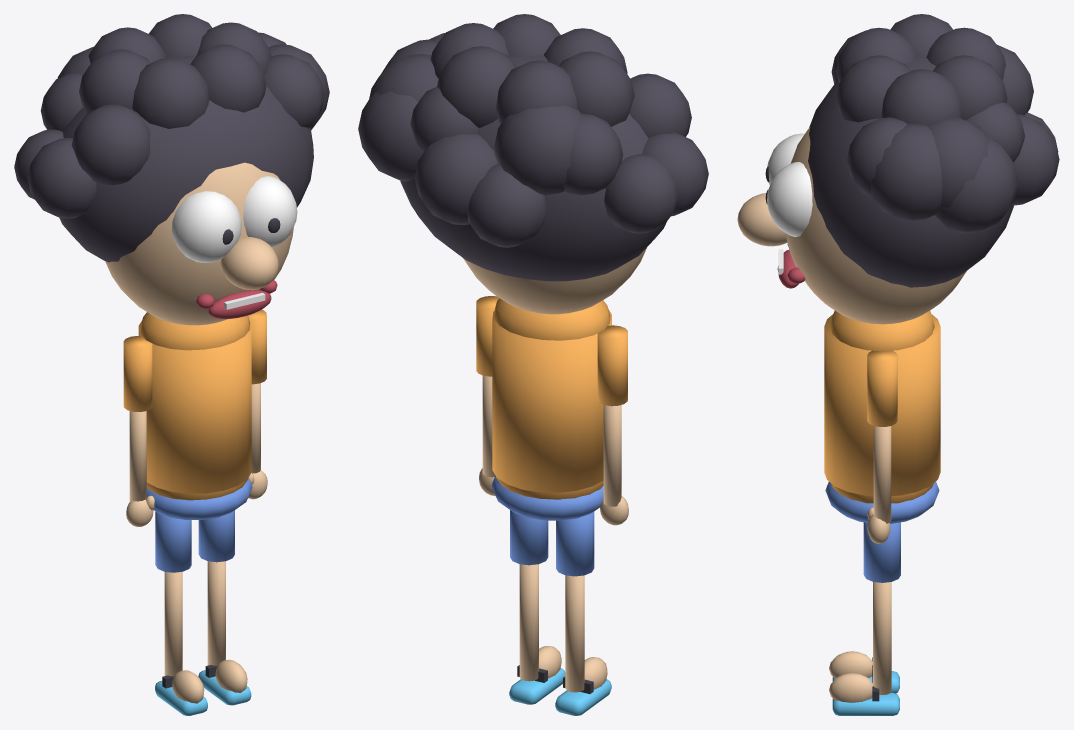
Rendered from Char_Along.fbx.
The picture shows the model from 3 angles, left to right: view 1: azimuth 30°, elevation 25°; view 2: azimuth 150°, elevation 25°; view 3: azimuth 270°, elevation 25°; orthographic projection. The views are drawn at different scales.
Visible parts, largest first — view 1: Head, Torso, LegR, LegL, ArmR, ArmL; view 2: Head, Torso, LegR, LegL, ArmR, ArmL; view 3: Head, Torso, LegL, ArmL, LegR.
Boxes of the visible parts, bbox=[...] form: Head: bbox=[14, 14, 329, 325]; Torso: bbox=[138, 312, 252, 519]; LegR: bbox=[155, 511, 207, 715]; LegL: bbox=[198, 510, 251, 705]; ArmR: bbox=[123, 336, 154, 526]; ArmL: bbox=[248, 309, 267, 499]; Head: bbox=[358, 14, 708, 314]; Torso: bbox=[491, 298, 611, 520]; LegR: bbox=[555, 511, 611, 715]; LegL: bbox=[509, 510, 565, 704]; ArmR: bbox=[597, 325, 628, 525]; ArmL: bbox=[476, 296, 499, 495]; Head: bbox=[737, 14, 1059, 324]; Torso: bbox=[824, 310, 940, 523]; LegL: bbox=[829, 522, 900, 715]; ArmL: bbox=[867, 350, 897, 543]; LegR: bbox=[829, 651, 899, 693].
Bounding box in the file's own units: 0.9947 × 2.06 × 0.9159.
